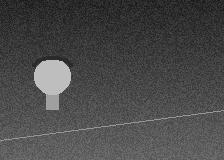no_helmet: (34, 56, 70, 99)
